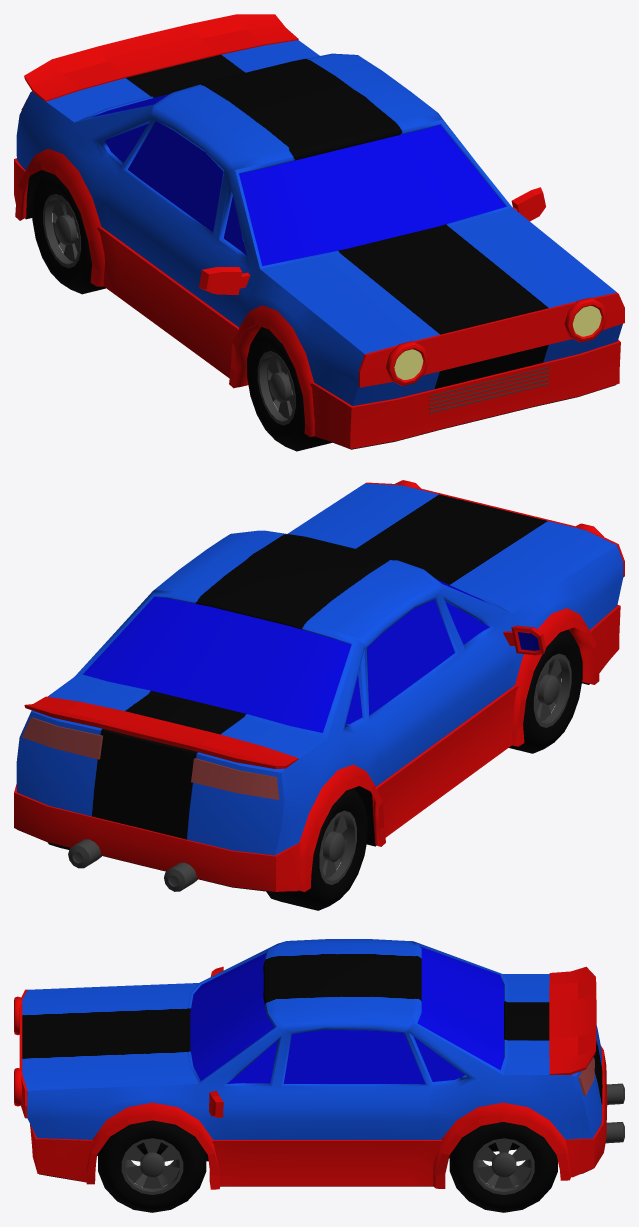
File: Muscle Evolution2 Red LineBlackBlue Blue DarkGrey.glb
3 renders of one model, top to bottom at view 1: azimuth 30°, elevation 25°; view 2: azimuth 150°, elevation 25°; view 3: azimuth 270°, elevation 25°, orthographic. The views are drawn at different scales.
Parts seen in each view (by area): view 1: evo2_body2_f1_dupl, evo2_frontGlass_f1_dupl, evo2_sill2_f1_dupl, evo2_spoiler2_f1_dupl, evo2_front_square2_f1_dupl, evo2_glasseBigR_f1_dupl, evo2_mudguardFR_f1_dupl, evo2_mudguardbR_f1_dupl, evo2_tire_rf1_f1_dupl, evo2_tire_rf_f1_dupl, evo2_rim_A_rf_f1_dupl, evo2_rim_A_rb_f1_dupl (+9 smaller); view 2: evo2_body2_f1_dupl, evo2_BackGlassGlass_f1_dupl, evo2_sill2_f1_dupl, evo2_spoiler2_f1_dupl, evo2_glasseBigR_f1_dupl, evo2_tire_rf_f1_dupl, evo2_mudguardbR_f1_dupl, evo2_mudguardFR_f1_dupl, evo2_tire_rf1_f1_dupl, evo2_rim_A_rf_f1_dupl, evo2_rim_A_rb_f1_dupl, evo2_redlightR2_f1_dupl (+5 smaller); view 3: evo2_body2_f1_dupl, evo2_sill2_f1_dupl, evo2_BackGlassGlass_f1_dupl, evo2_glasseBigL_f1_dupl, evo2_frontGlass_f1_dupl, evo2_tire_lf_f1_dupl, evo2_tire_lb_f1_dupl, evo2_spoiler2_f1_dupl, evo2_mudguardBL_f1_dupl, evo2_mudguardFL_f1_dupl, evo2_rim_A_lf_f1_dupl, evo2_rim_A_lb_f1_dupl (+4 smaller).
Boxes of the visible parts, <box> form: evo2_body2_f1_dupl: <box>16,40,622,405</box>; evo2_frontGlass_f1_dupl: <box>239,125,505,265</box>; evo2_sill2_f1_dupl: <box>14,158,620,449</box>; evo2_spoiler2_f1_dupl: <box>24,14,298,101</box>; evo2_front_square2_f1_dupl: <box>358,292,624,387</box>; evo2_glasseBigR_f1_dupl: <box>128,121,223,231</box>; evo2_mudguardFR_f1_dupl: <box>229,305,314,437</box>; evo2_mudguardbR_f1_dupl: <box>15,148,104,286</box>; evo2_tire_rf1_f1_dupl: <box>247,327,331,451</box>; evo2_tire_rf_f1_dupl: <box>32,171,105,294</box>; evo2_rim_A_rf_f1_dupl: <box>257,351,295,425</box>; evo2_rim_A_rb_f1_dupl: <box>43,194,80,268</box>; evo2_body2_f1_dupl: <box>16,483,623,855</box>; evo2_BackGlassGlass_f1_dupl: <box>83,596,351,732</box>; evo2_sill2_f1_dupl: <box>14,605,620,891</box>; evo2_spoiler2_f1_dupl: <box>24,696,298,768</box>; evo2_glasseBigR_f1_dupl: <box>367,599,454,715</box>; evo2_tire_rf_f1_dupl: <box>266,787,367,910</box>; evo2_mudguardbR_f1_dupl: <box>299,764,385,891</box>; evo2_mudguardFR_f1_dupl: <box>512,608,599,746</box>; evo2_tire_rf1_f1_dupl: <box>509,629,582,753</box>; evo2_rim_A_rf_f1_dupl: <box>533,653,571,727</box>; evo2_rim_A_rb_f1_dupl: <box>319,810,356,884</box>; evo2_redlightR2_f1_dupl: <box>191,758,279,799</box>; evo2_body2_f1_dupl: <box>22,939,602,1159</box>; evo2_sill2_f1_dupl: <box>30,1045,607,1186</box>; evo2_BackGlassGlass_f1_dupl: <box>417,946,503,1070</box>; evo2_glasseBigL_f1_dupl: <box>283,1029,425,1084</box>; evo2_frontGlass_f1_dupl: <box>190,953,274,1080</box>; evo2_tire_lf_f1_dupl: <box>98,1120,206,1212</box>; evo2_tire_lb_f1_dupl: <box>449,1122,557,1212</box>; evo2_spoiler2_f1_dupl: <box>549,966,596,1074</box>; evo2_mudguardBL_f1_dupl: <box>433,1102,570,1188</box>; evo2_mudguardFL_f1_dupl: <box>86,1102,220,1189</box>; evo2_rim_A_lf_f1_dupl: <box>121,1138,183,1194</box>; evo2_rim_A_lb_f1_dupl: <box>473,1138,534,1194</box>.
Size of the model in its own units: 177 by 112 by 331.
Materials: 7 (1 with a texture image).
